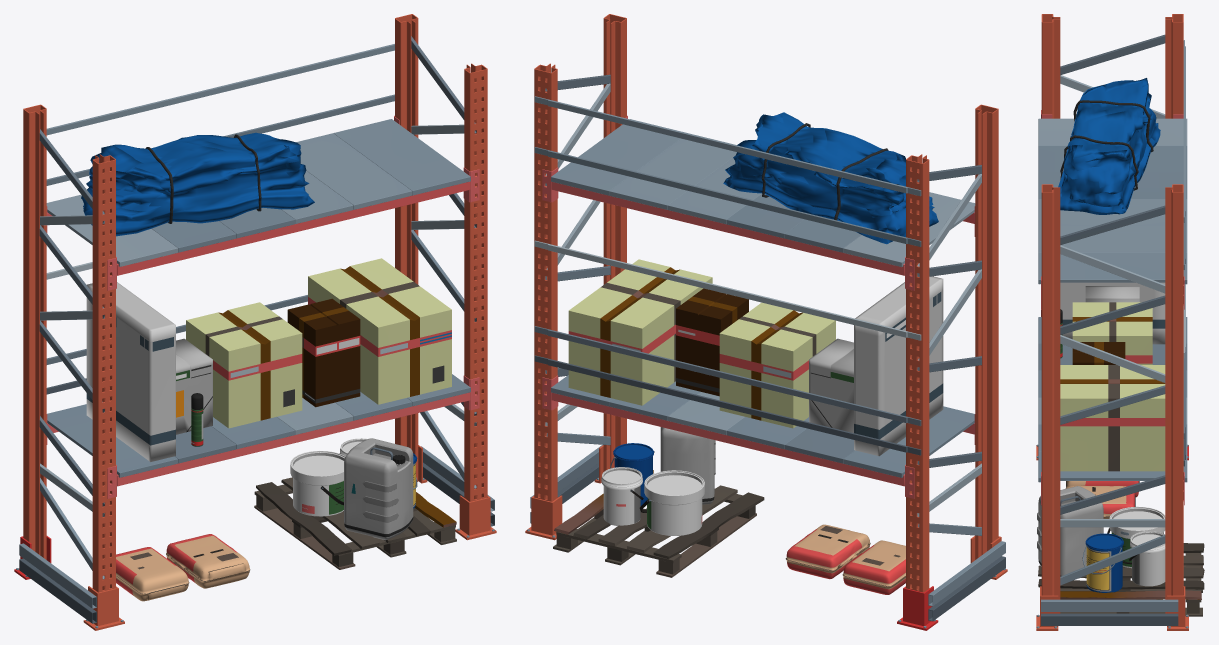
Rendered from SM_Aisle_Red_A.fbx.
3 views of the same model, side by side, from view 1: azimuth 30°, elevation 25°; view 2: azimuth 150°, elevation 25°; view 3: azimuth 270°, elevation 25° (orthographic). The views are drawn at different scales.
Visible parts, largest first — view 1: SM_Aisle_Red_A; view 2: SM_Aisle_Red_A; view 3: SM_Aisle_Red_A.
Boxes of the visible parts, box(x1,y1,x2,y2) form: SM_Aisle_Red_A: box(14, 14, 496, 630); SM_Aisle_Red_A: box(525, 14, 1007, 630); SM_Aisle_Red_A: box(1036, 14, 1204, 630).
Bounding box in the file's own units: 336 × 372 × 129.
